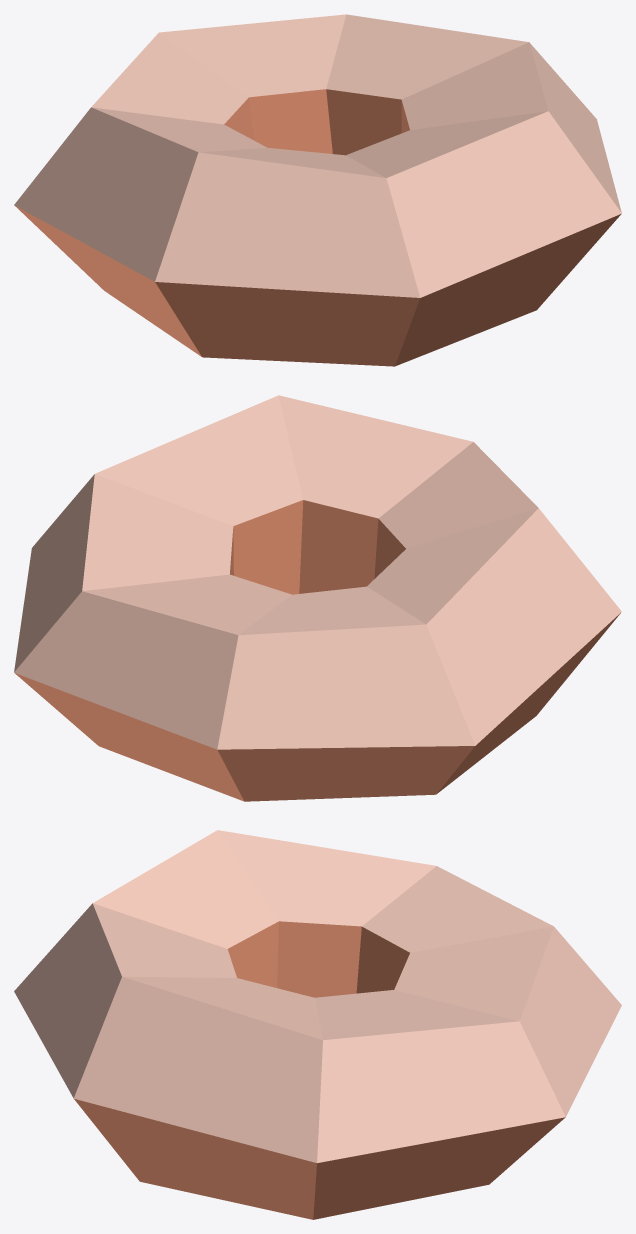
Rendered from Donut.fbx.
3 renders of one model, top to bottom at view 1: azimuth 30°, elevation 25°; view 2: azimuth 150°, elevation 25°; view 3: azimuth 270°, elevation 25°, orthographic.
Visible parts, largest first — view 1: Donut; view 2: Donut; view 3: Donut.
Boxes of the visible parts, x1,y1,x2,y2 form: Donut: [14, 14, 621, 366]; Donut: [14, 395, 621, 801]; Donut: [14, 830, 621, 1219].
Bounding box in the file's own units: 53.69 × 21.38 × 54.99.
